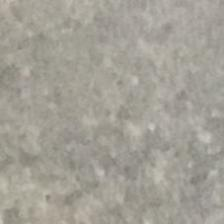Non_Crack: (18, 11, 224, 224)
